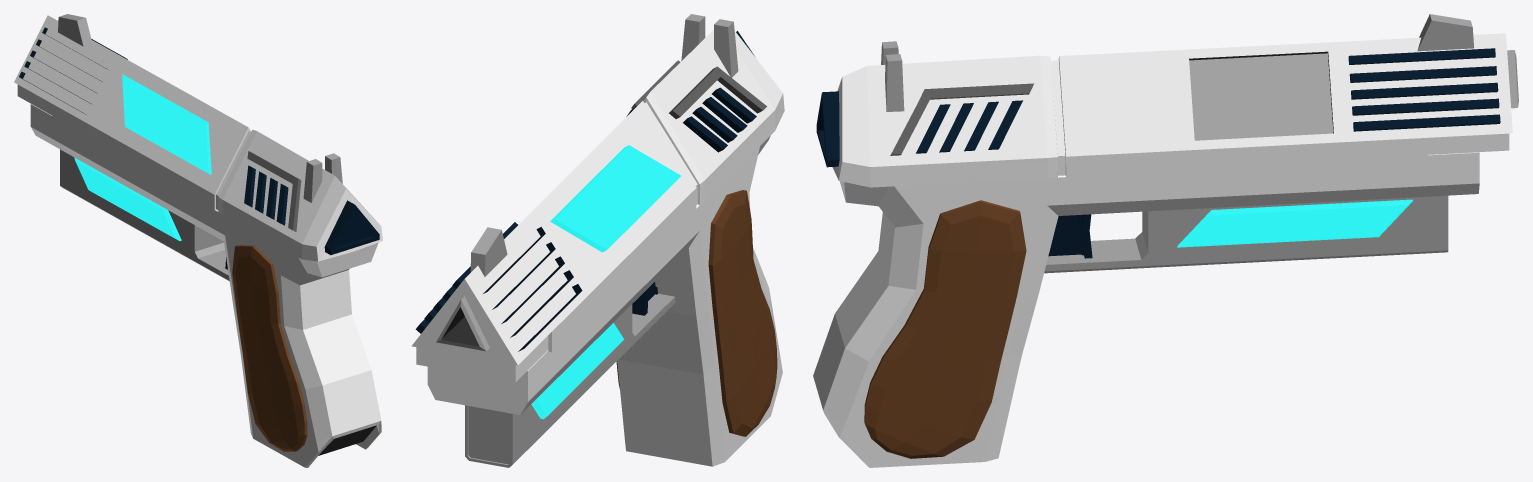
Rendered from gun.glb.
3 views of the same model, side by side, from view 1: azimuth 30°, elevation 25°; view 2: azimuth 150°, elevation 25°; view 3: azimuth 270°, elevation 25° (orthographic). The views are drawn at different scales.
Visible parts, largest first — view 1: Pistol; view 2: Pistol; view 3: Pistol.
Part boxes in pixels (x1=…): Pistol: x1=14, y1=14, x2=382, y2=467; Pistol: x1=411, y1=14, x2=784, y2=467; Pistol: x1=813, y1=14, x2=1518, y2=467.
Size of the model in its own units: 0.1486 by 0.3345 by 0.5348.
